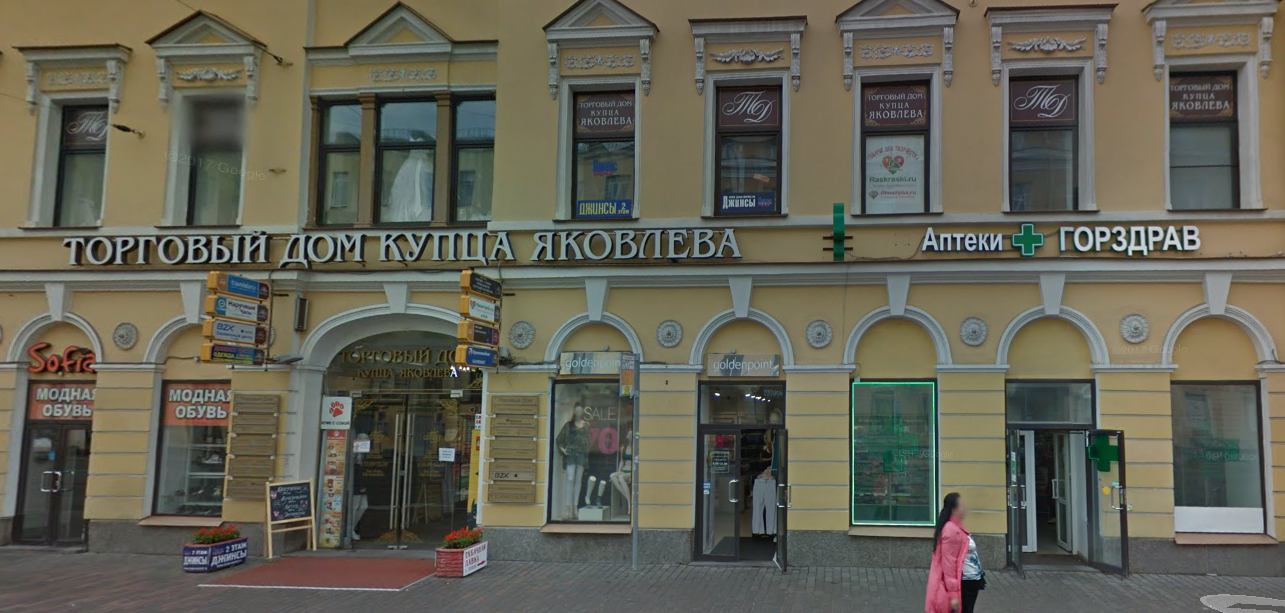cantilever: (195, 269, 301, 375), (453, 264, 522, 374), (819, 199, 859, 268)
door: (1005, 424, 1125, 578), (689, 422, 798, 577), (343, 397, 446, 549), (17, 413, 90, 548)
signboard: (66, 218, 745, 273), (905, 217, 1220, 263), (26, 333, 104, 373)
win_ad: (159, 381, 240, 428), (31, 384, 97, 419)
window: (309, 92, 492, 228), (1170, 376, 1269, 534), (850, 377, 937, 524), (553, 386, 640, 531), (1008, 67, 1087, 210), (1169, 65, 1241, 209), (862, 73, 934, 214), (155, 375, 225, 518), (564, 78, 633, 216), (174, 97, 244, 229), (719, 81, 780, 215), (58, 97, 108, 229), (1004, 369, 1098, 426), (699, 379, 784, 432)
